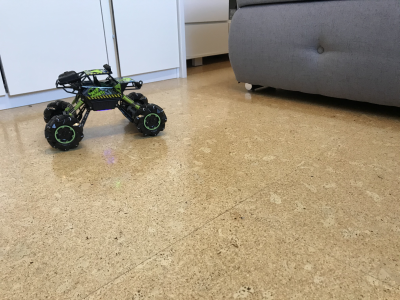remote control car: (40, 61, 170, 152)
